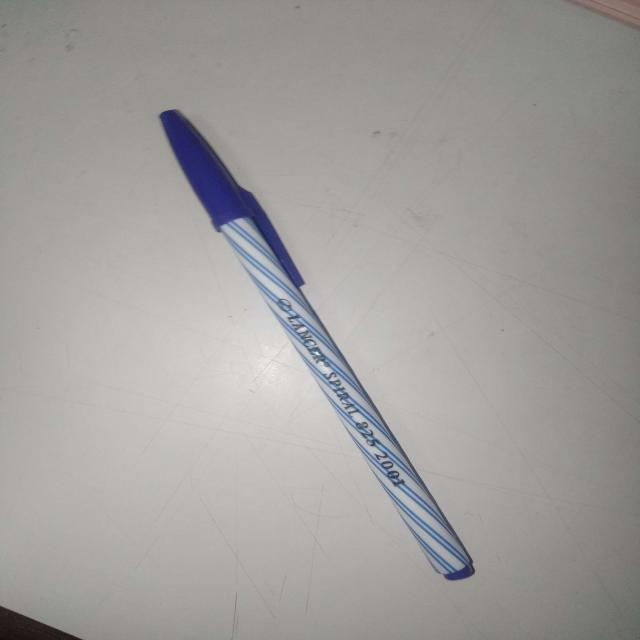pen_pencil: (142, 105, 506, 594)
